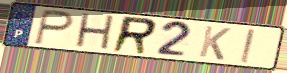2: (153, 20, 197, 59)
H: (72, 11, 116, 53)
I: (239, 27, 257, 65)
K: (197, 24, 234, 62)
P: (32, 8, 76, 47)
R: (108, 15, 159, 57)
